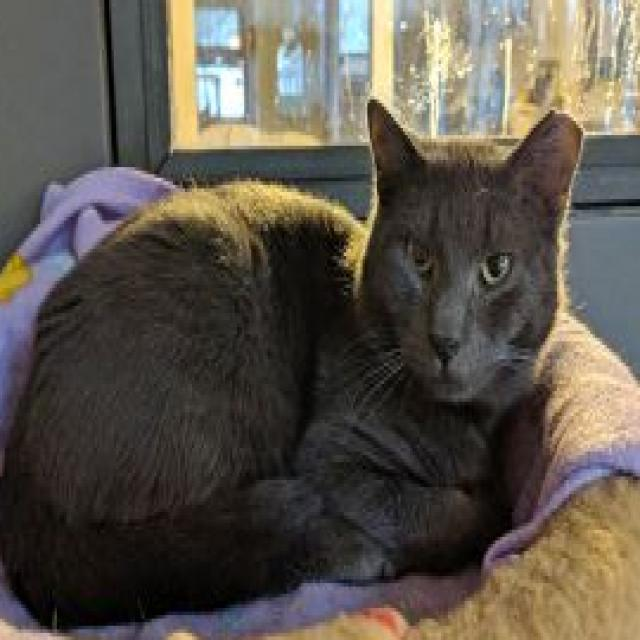Russian Blue: (0, 92, 588, 640)
